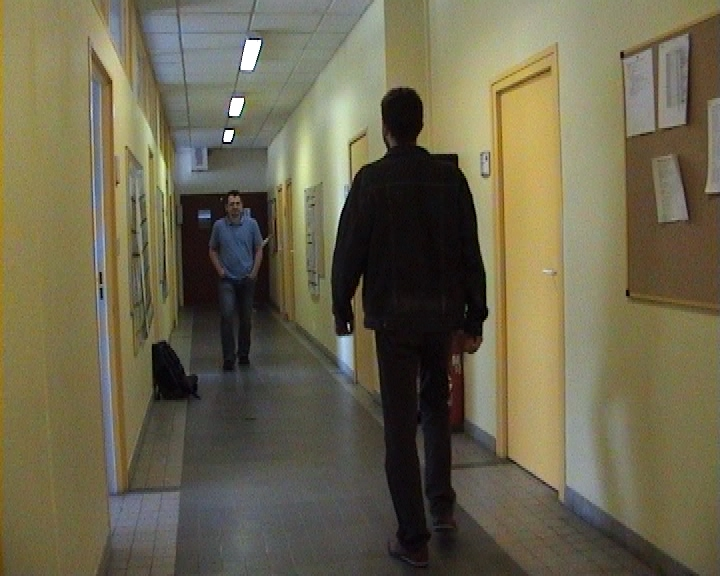leave bag unattended: (137, 332, 206, 414)
